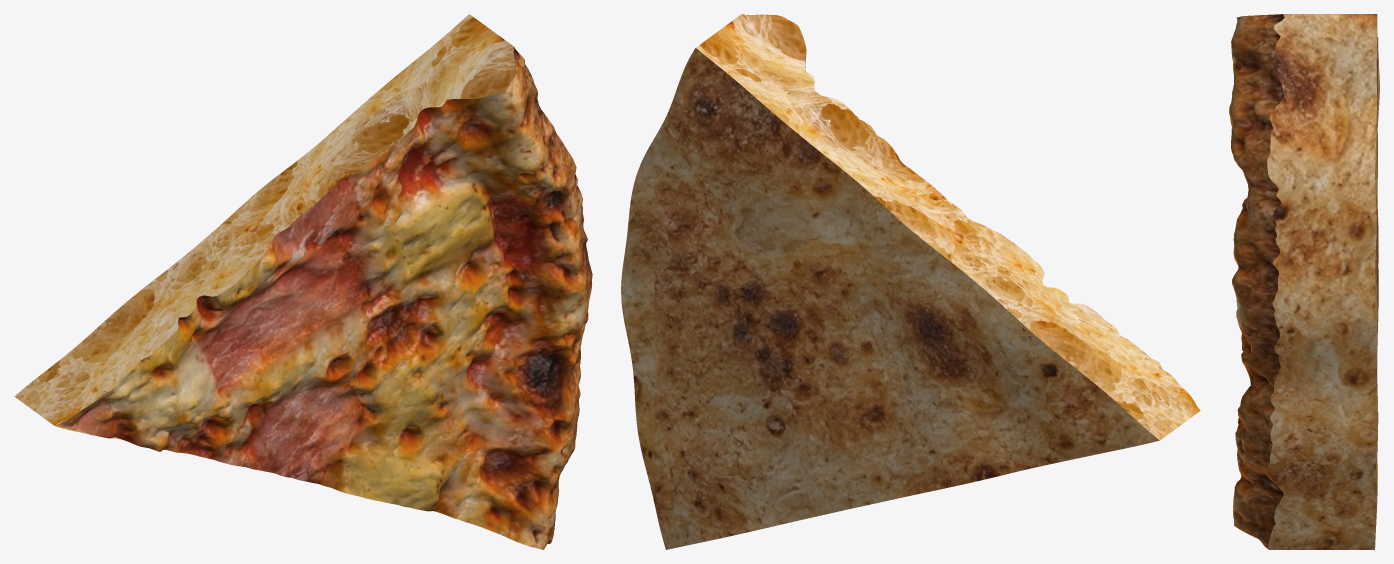
3 renders of one model, left to right at view 1: azimuth 30°, elevation 25°; view 2: azimuth 150°, elevation 25°; view 3: azimuth 270°, elevation 25°, orthographic. The views are drawn at different scales.
Visible parts, largest first — view 1: PizzaTop, CutFace_160; view 2: BakedUnderside, CutFace_160; view 3: BrownedCrustSide, PizzaTop, BakedUnderside.
Part boxes in pixels (x1,y1,x2,y2): PizzaTop: (59,47,592,549); CutFace_160: (14,14,515,425); BakedUnderside: (621,48,1159,549); CutFace_160: (696,14,1200,440); BrownedCrustSide: (1267,14,1377,549); PizzaTop: (1229,14,1284,549); BakedUnderside: (1375,29,1379,525).
Bounding box in the file's own units: 0.1066 × 0.0963 × 0.0253.
5 materials, 5 textured.
